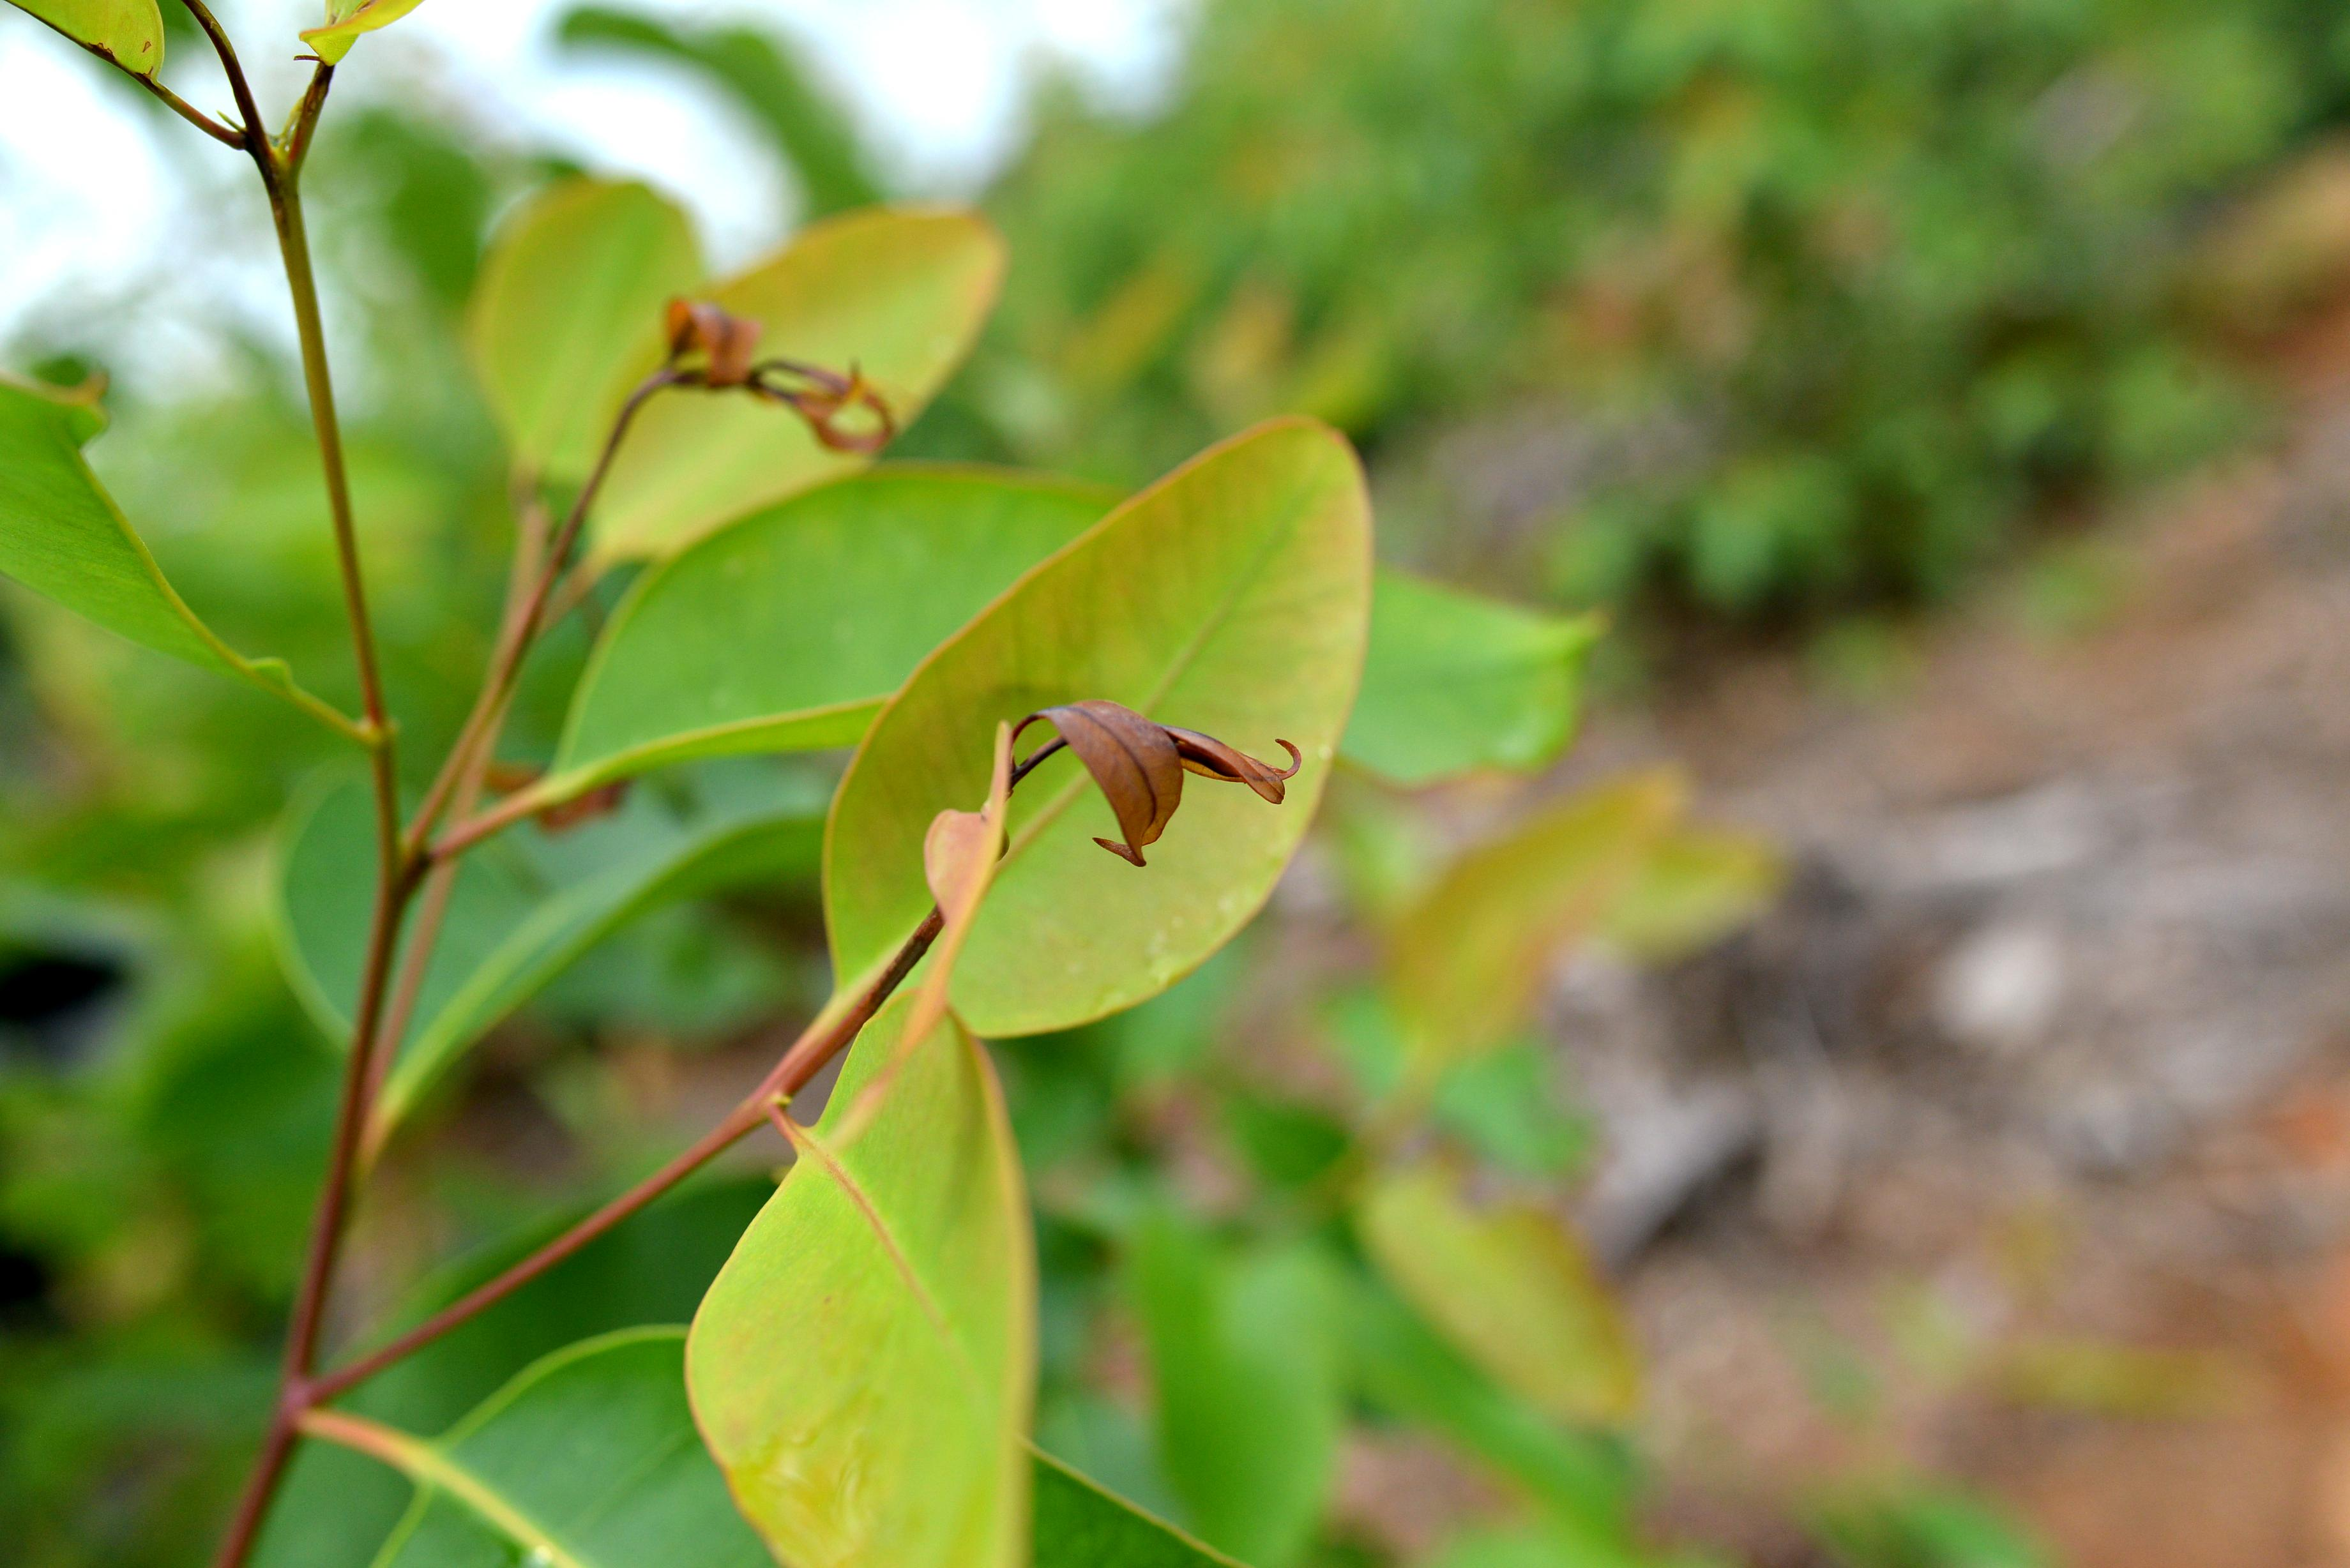Helopeltis-Withered Sprout: (814, 812, 994, 1176), (1001, 700, 1178, 861), (1024, 731, 1312, 817), (744, 353, 896, 453), (474, 751, 626, 842), (642, 283, 759, 394)
